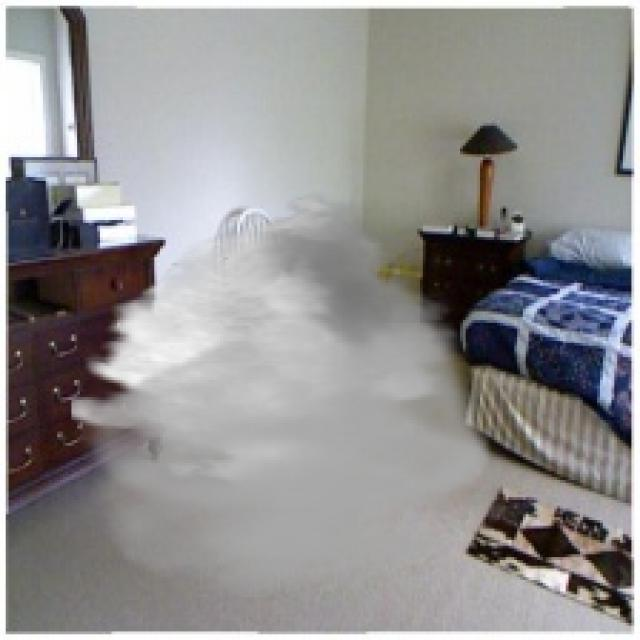smoke: (72, 192, 497, 597)
